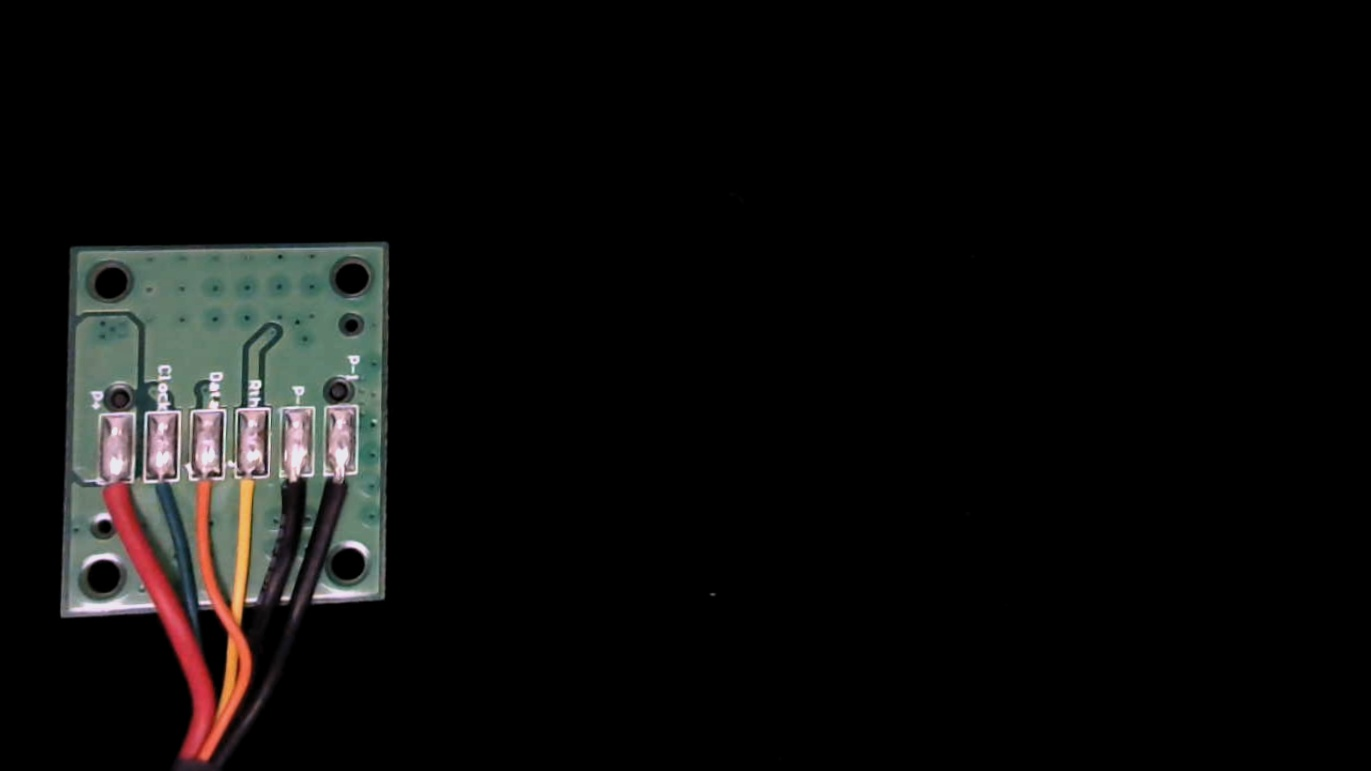Black: (276, 459, 314, 529)
Black1: (319, 458, 359, 531)
Green: (139, 463, 180, 526)
Orange: (184, 462, 222, 528)
Red: (92, 465, 134, 542)
Yellow: (231, 461, 271, 529)
